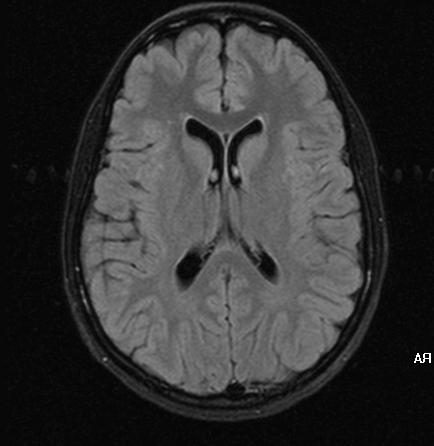Normal_Brain: (1, 1, 434, 446)
